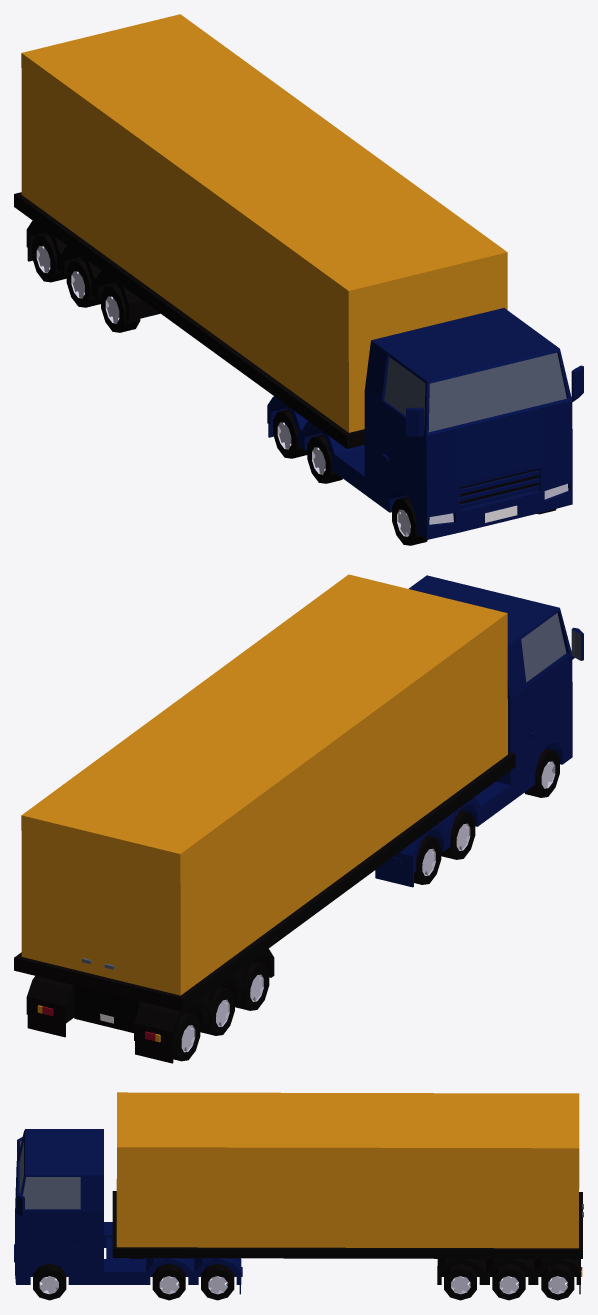
File: rgs-Truck-with-trailer.glb
The picture shows the model from 3 angles, top to bottom: view 1: azimuth 30°, elevation 25°; view 2: azimuth 150°, elevation 25°; view 3: azimuth 270°, elevation 25°; orthographic projection. The views are drawn at different scales.
Visible parts, largest first — view 1: Truck with trailer, Truck with trailer wheel rear right 3, Truck with trailer wheel rear right 4, Truck with trailer wheel rear right 5, Truck with trailer wheel front right, Truck with trailer wheel rear right 2, Truck with trailer wheel rear right; view 2: Truck with trailer, Truck with trailer wheel rear right, Truck with trailer wheel rear right 3, Truck with trailer wheel rear right 4, Truck with trailer wheel front right, Truck with trailer wheel rear right 5, Truck with trailer wheel rear right 2; view 3: Truck with trailer, Truck with trailer wheel rear left 2, Truck with trailer wheel front left, Truck with trailer wheel rear left 4, Truck with trailer wheel rear left, Truck with trailer wheel rear left 5, Truck with trailer wheel rear left 3.
Part boxes in pixels (x1,y1,x2,y2): Truck with trailer: (14,14,583,539); Truck with trailer wheel rear right 3: (101,283,140,332); Truck with trailer wheel rear right 4: (66,258,100,307); Truck with trailer wheel rear right 5: (32,233,66,282); Truck with trailer wheel front right: (392,496,427,545); Truck with trailer wheel rear right 2: (273,409,307,458); Truck with trailer wheel rear right: (307,434,342,483); Truck with trailer: (14,574,583,1063); Truck with trailer wheel rear right: (441,810,475,859); Truck with trailer wheel rear right 3: (235,961,269,1010); Truck with trailer wheel rear right 4: (200,986,234,1035); Truck with trailer wheel front right: (524,748,559,797); Truck with trailer wheel rear right 5: (173,1012,200,1061); Truck with trailer wheel rear right 2: (414,835,441,884); Truck with trailer: (14,1092,583,1294); Truck with trailer wheel rear left 2: (201,1263,234,1300); Truck with trailer wheel front left: (33,1263,66,1300); Truck with trailer wheel rear left 4: (492,1263,525,1300); Truck with trailer wheel rear left: (152,1263,185,1300); Truck with trailer wheel rear left 5: (541,1263,574,1300); Truck with trailer wheel rear left 3: (444,1263,476,1300).
Size of the model in its own units: 3.41 by 4.05 by 13.42.
